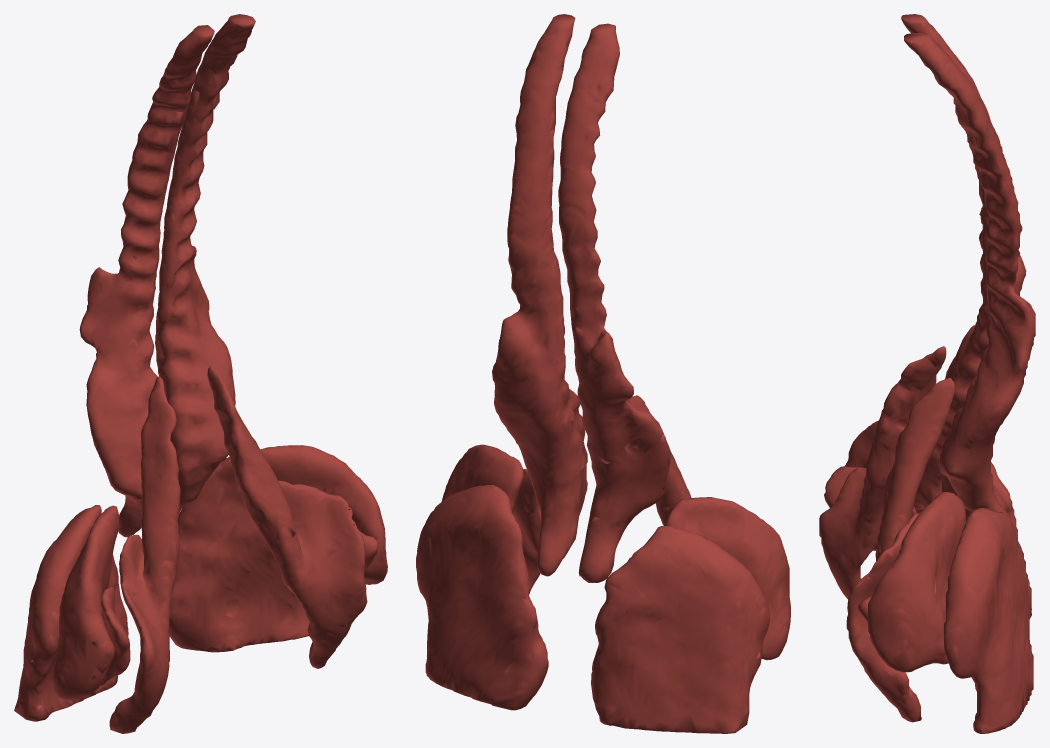
Rendered from tsd_s0196_older_adult_female.muscular.LOD4.glb.
3 renders of one model, left to right at view 1: azimuth 30°, elevation 25°; view 2: azimuth 150°, elevation 25°; view 3: azimuth 270°, elevation 25°, orthographic. The views are drawn at different scales.
Visible parts, largest first — view 1: TSD_S0196.OLDER_ADULT.FEMALE.MUSCULAR.ERECTOR_SPINAE_AUTOCHT (×2), TSD_S0196.OLDER_ADULT.FEMALE.MUSCULAR.GLUTEUS_MAXIMUS.L, TSD_S0196.OLDER_ADULT.FEMALE.MUSCULAR.ILIOPSOAS.L, TSD_S0196.OLDER_ADULT.FEMALE.MUSCULAR.ILIOPSOAS.R, TSD_S0196.OLDER_ADULT.FEMALE.MUSCULAR.GLUTEUS_MAXIMUS.R, TSD_S0196.OLDER_ADULT.FEMALE.MUSCULAR.GLUTEUS_MEDIUS.R, TSD_S0196.OLDER_ADULT.FEMALE.MUSCULAR.GLUTEUS_MEDIUS.L, TSD_S0196.OLDER_ADULT.FEMALE.MUSCULAR.GLUTEUS_MINIMUS.R; view 2: TSD_S0196.OLDER_ADULT.FEMALE.MUSCULAR.ERECTOR_SPINAE_AUTOCHT (×2), TSD_S0196.OLDER_ADULT.FEMALE.MUSCULAR.GLUTEUS_MAXIMUS.R, TSD_S0196.OLDER_ADULT.FEMALE.MUSCULAR.GLUTEUS_MAXIMUS.L, TSD_S0196.OLDER_ADULT.FEMALE.MUSCULAR.GLUTEUS_MEDIUS.R, TSD_S0196.OLDER_ADULT.FEMALE.MUSCULAR.GLUTEUS_MEDIUS.L, TSD_S0196.OLDER_ADULT.FEMALE.MUSCULAR.ILIOPSOAS.L, TSD_S0196.OLDER_ADULT.FEMALE.MUSCULAR.ILIOPSOAS.R; view 3: TSD_S0196.OLDER_ADULT.FEMALE.MUSCULAR.ERECTOR_SPINAE_AUTOCHT (×2), TSD_S0196.OLDER_ADULT.FEMALE.MUSCULAR.GLUTEUS_MAXIMUS.L, TSD_S0196.OLDER_ADULT.FEMALE.MUSCULAR.GLUTEUS_MEDIUS.L, TSD_S0196.OLDER_ADULT.FEMALE.MUSCULAR.ILIOPSOAS.L, TSD_S0196.OLDER_ADULT.FEMALE.MUSCULAR.ILIOPSOAS.R, TSD_S0196.OLDER_ADULT.FEMALE.MUSCULAR.GLUTEUS_MEDIUS.R, TSD_S0196.OLDER_ADULT.FEMALE.MUSCULAR.GLUTEUS_MAXIMUS.R, TSD_S0196.OLDER_ADULT.FEMALE.MUSCULAR.GLUTEUS_MINIMUS.R.
Part boxes in pixels (<box>): TSD_S0196.OLDER_ADULT.FEMALE.MUSCULAR.ERECTOR_SPINAE_AUTOCHT (×2): <box>79,14,255,537</box>; TSD_S0196.OLDER_ADULT.FEMALE.MUSCULAR.GLUTEUS_MAXIMUS.L: <box>169,457,309,652</box>; TSD_S0196.OLDER_ADULT.FEMALE.MUSCULAR.ILIOPSOAS.L: <box>207,366,367,668</box>; TSD_S0196.OLDER_ADULT.FEMALE.MUSCULAR.ILIOPSOAS.R: <box>109,376,180,733</box>; TSD_S0196.OLDER_ADULT.FEMALE.MUSCULAR.GLUTEUS_MAXIMUS.R: <box>14,505,128,721</box>; TSD_S0196.OLDER_ADULT.FEMALE.MUSCULAR.GLUTEUS_MEDIUS.R: <box>52,505,119,700</box>; TSD_S0196.OLDER_ADULT.FEMALE.MUSCULAR.GLUTEUS_MEDIUS.L: <box>260,445,387,584</box>; TSD_S0196.OLDER_ADULT.FEMALE.MUSCULAR.GLUTEUS_MINIMUS.R: <box>100,586,130,685</box>; TSD_S0196.OLDER_ADULT.FEMALE.MUSCULAR.ERECTOR_SPINAE_AUTOCHT (×2): <box>492,14,670,582</box>; TSD_S0196.OLDER_ADULT.FEMALE.MUSCULAR.GLUTEUS_MAXIMUS.R: <box>591,526,770,733</box>; TSD_S0196.OLDER_ADULT.FEMALE.MUSCULAR.GLUTEUS_MAXIMUS.L: <box>416,485,548,710</box>; TSD_S0196.OLDER_ADULT.FEMALE.MUSCULAR.GLUTEUS_MEDIUS.R: <box>664,497,790,660</box>; TSD_S0196.OLDER_ADULT.FEMALE.MUSCULAR.GLUTEUS_MEDIUS.L: <box>441,444,523,513</box>; TSD_S0196.OLDER_ADULT.FEMALE.MUSCULAR.ILIOPSOAS.L: <box>512,384,587,594</box>; TSD_S0196.OLDER_ADULT.FEMALE.MUSCULAR.ILIOPSOAS.R: <box>629,395,691,525</box>; TSD_S0196.OLDER_ADULT.FEMALE.MUSCULAR.ERECTOR_SPINAE_AUTOCHT (×2): <box>901,14,1035,528</box>; TSD_S0196.OLDER_ADULT.FEMALE.MUSCULAR.GLUTEUS_MAXIMUS.L: <box>944,508,1033,733</box>; TSD_S0196.OLDER_ADULT.FEMALE.MUSCULAR.GLUTEUS_MEDIUS.L: <box>868,492,965,672</box>; TSD_S0196.OLDER_ADULT.FEMALE.MUSCULAR.ILIOPSOAS.L: <box>846,377,955,722</box>; TSD_S0196.OLDER_ADULT.FEMALE.MUSCULAR.ILIOPSOAS.R: <box>819,346,946,599</box>; TSD_S0196.OLDER_ADULT.FEMALE.MUSCULAR.GLUTEUS_MEDIUS.R: <box>845,420,944,550</box>; TSD_S0196.OLDER_ADULT.FEMALE.MUSCULAR.GLUTEUS_MAXIMUS.R: <box>915,462,1017,539</box>; TSD_S0196.OLDER_ADULT.FEMALE.MUSCULAR.GLUTEUS_MINIMUS.R: <box>824,466,916,550</box>.
Bounding box in the file's own units: 0.2945 × 0.5507 × 0.1668.
